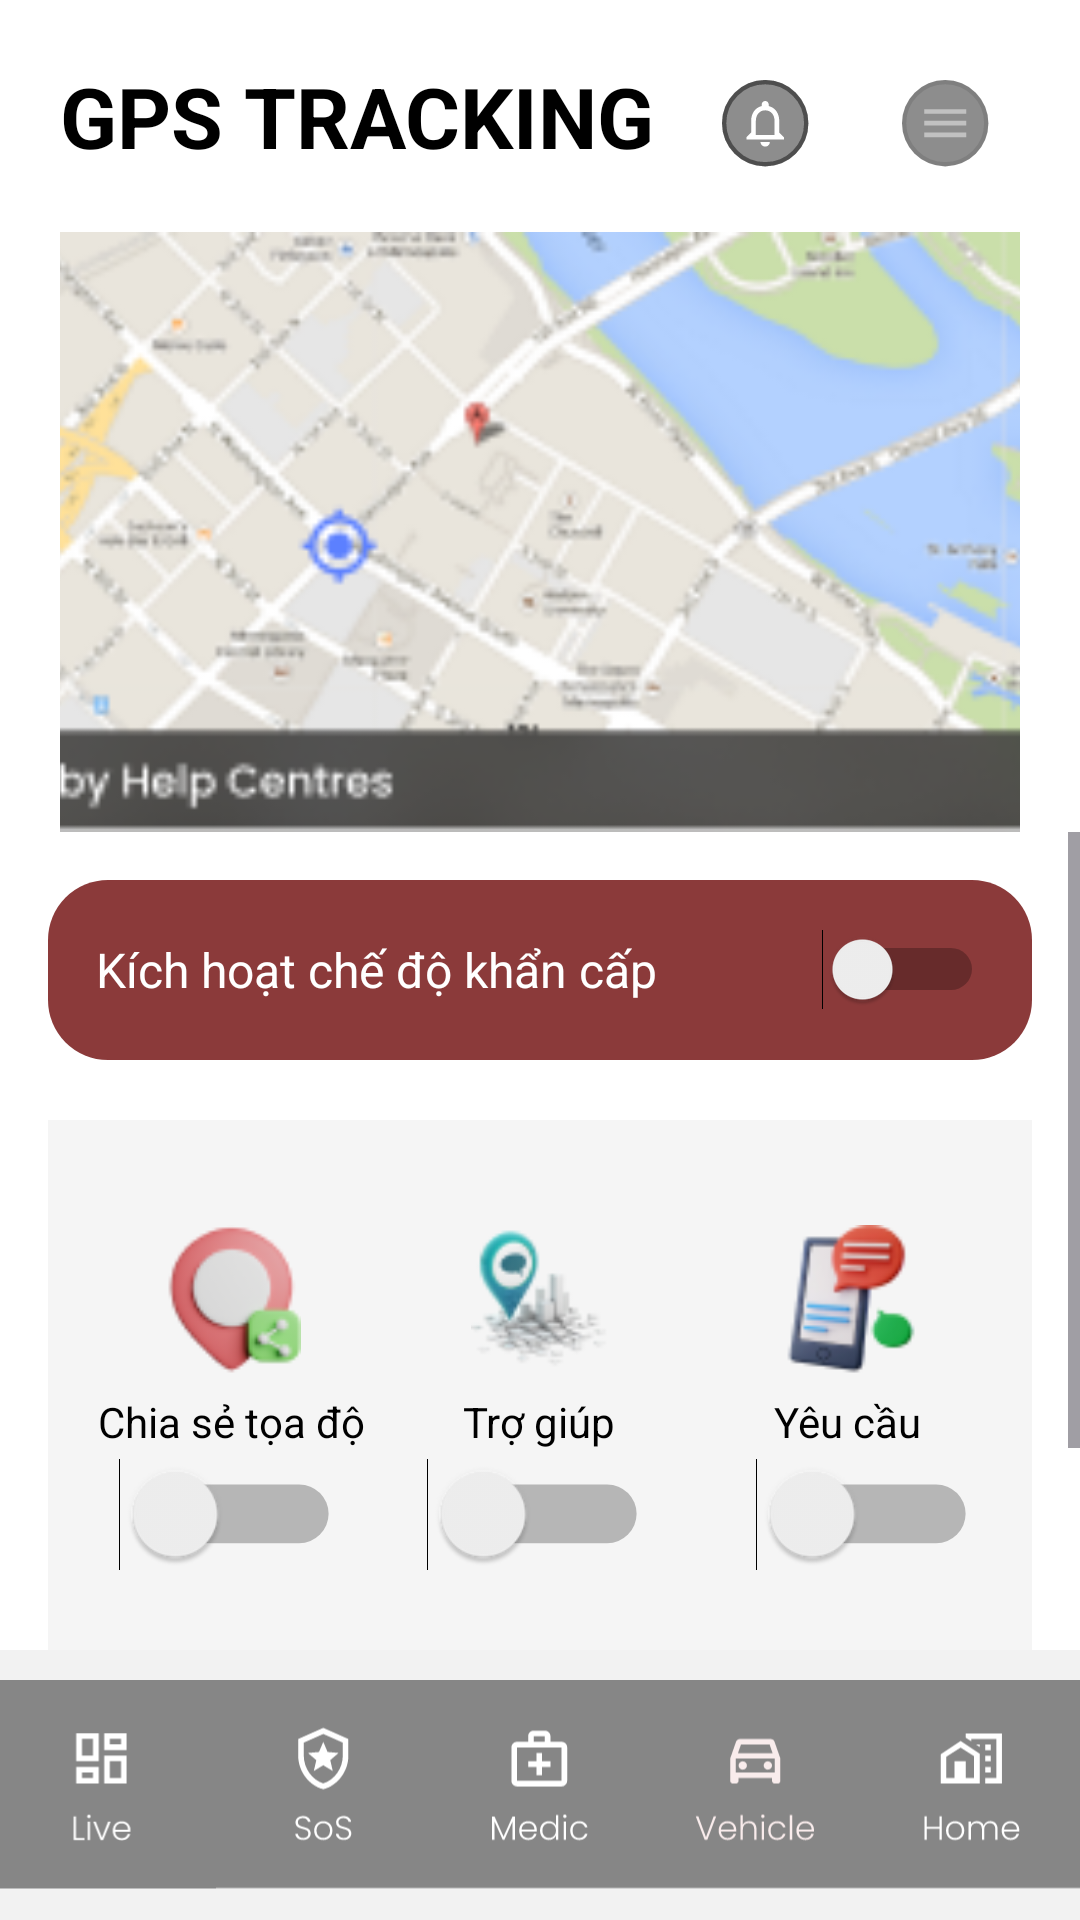

Screen size 1080 × 1920. Icon name, then its box in pixels as (x1, y1, x2, y2):
notifications: (722, 80, 809, 167)
